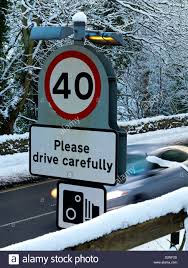Speed_limit_40km: (45, 51, 102, 121)
